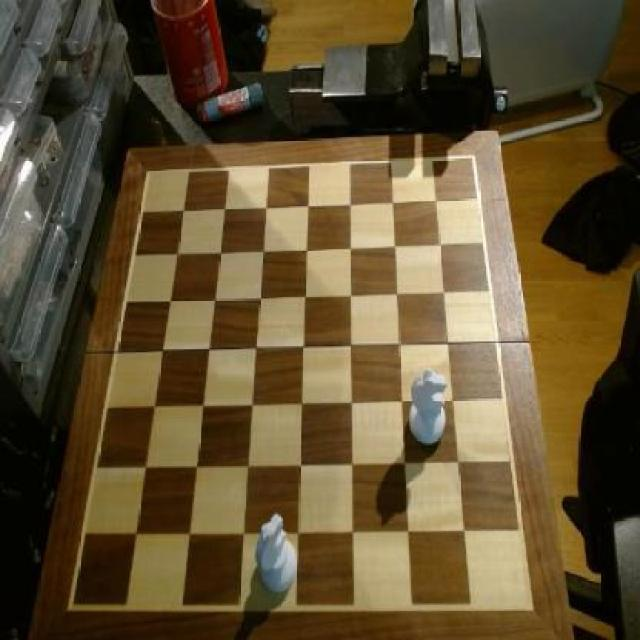white-king: (255, 512, 300, 600), (408, 365, 452, 450)
